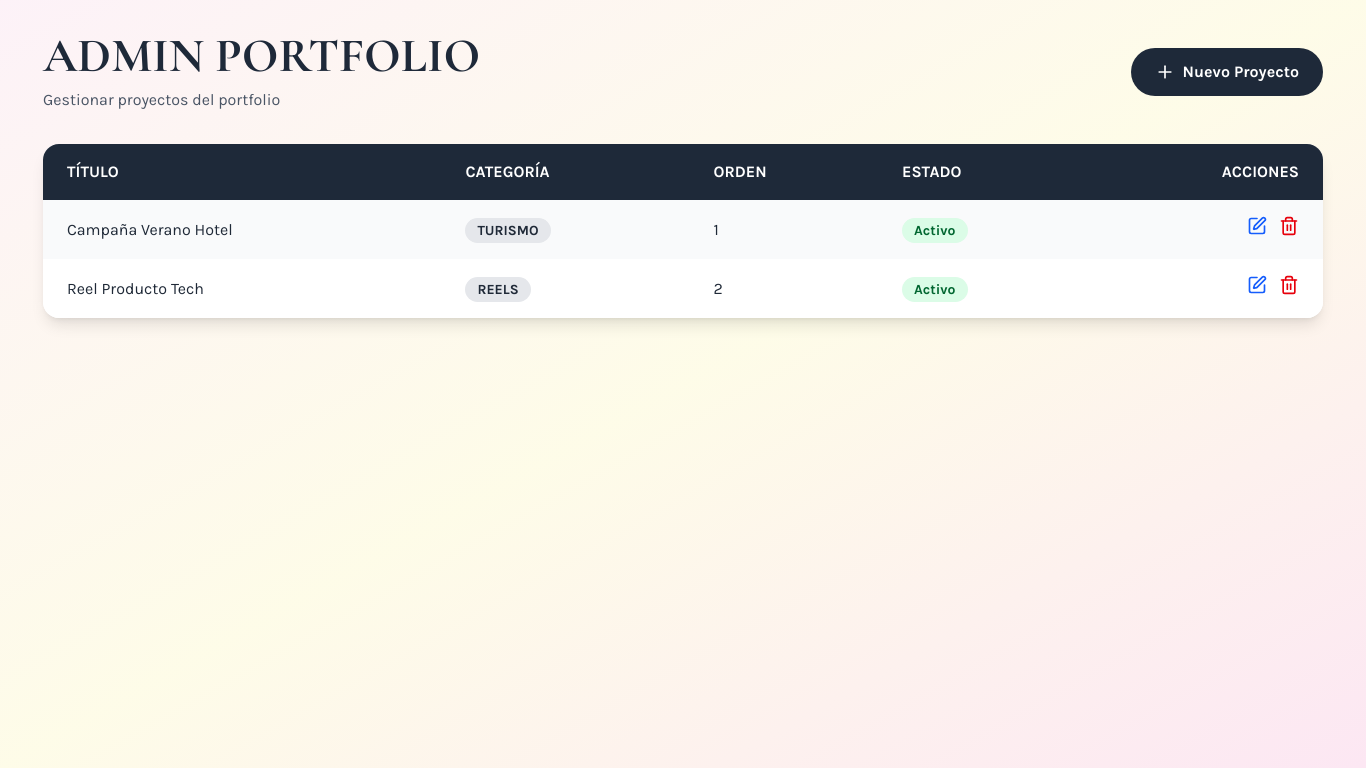
Test: AdminPortfolio › abre el formulario al hacer click en Nuevo Proyecto
Click the button with test id "create-button" at (1227, 72), box [1131,48,1323,96]
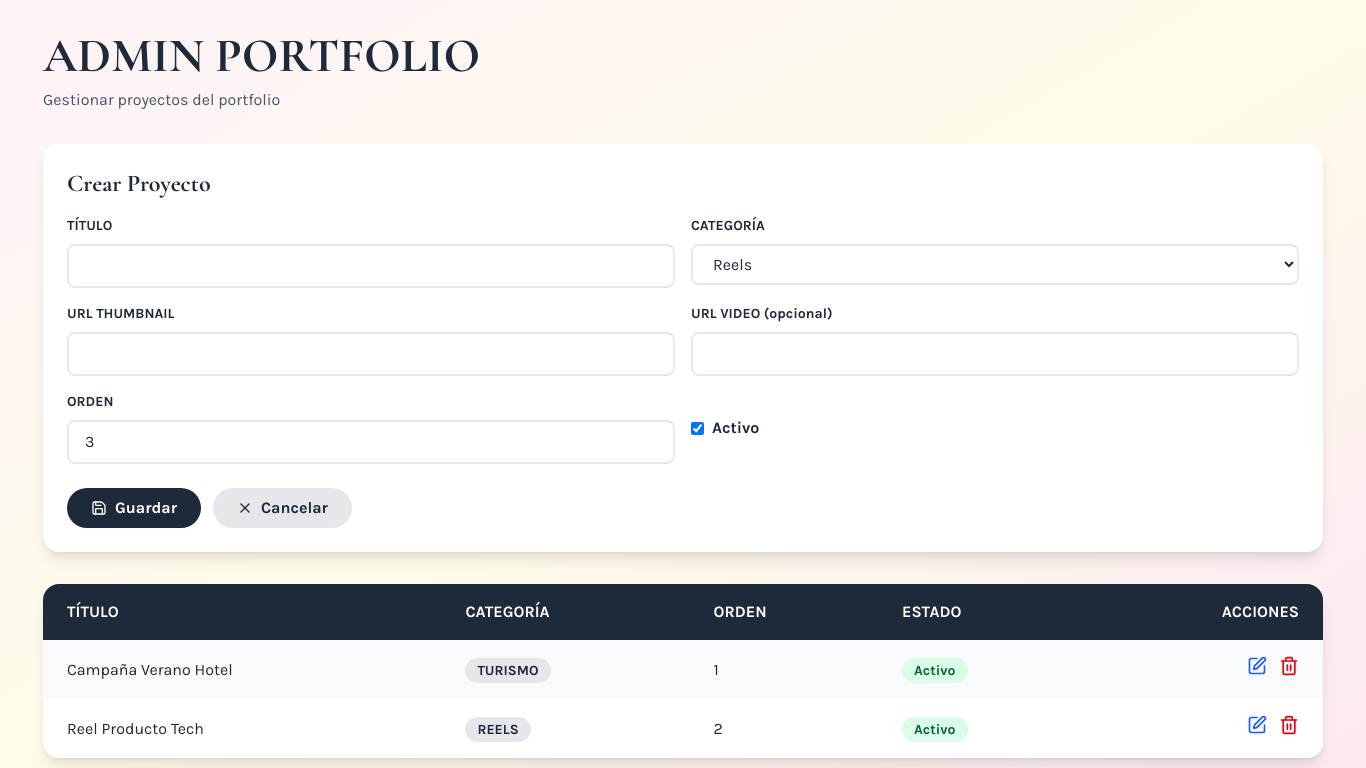
Now the element with test id "edit-form" is shown, box [43,144,1323,552]
Now the heading "Crear Proyecto" is shown, box [67,169,211,198]
